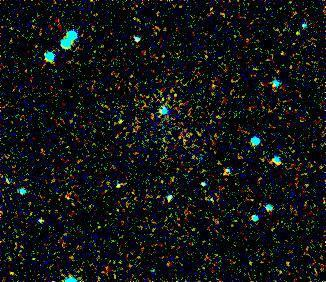star: (283, 18, 313, 48)
